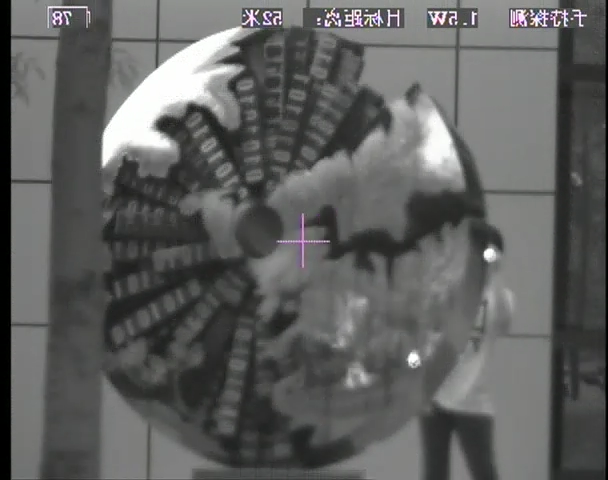my: (482, 247, 497, 263)
